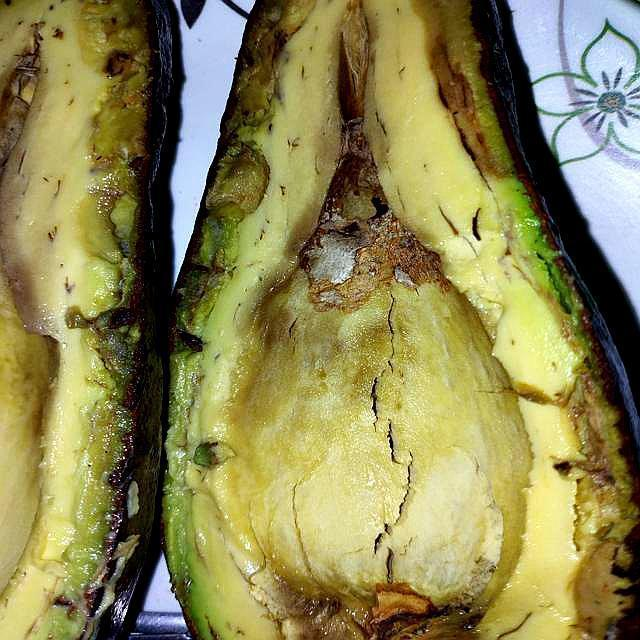Biodegradable: (161, 1, 640, 640), (1, 1, 161, 640)
